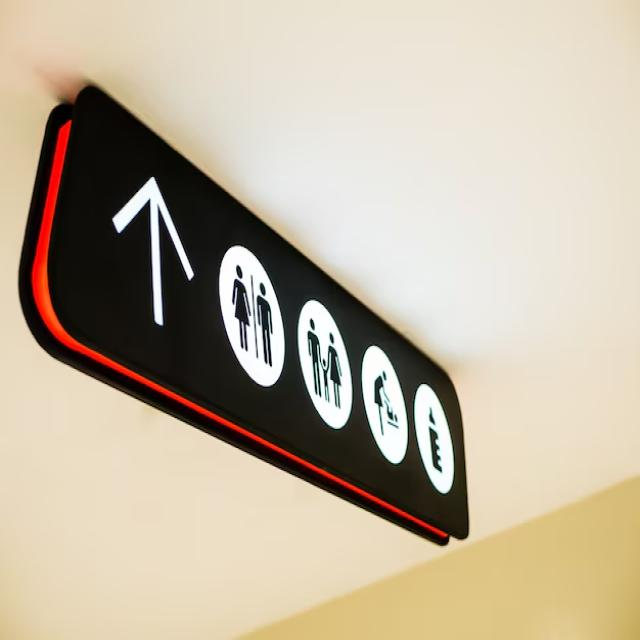toilet_icon: (226, 253, 279, 392)
